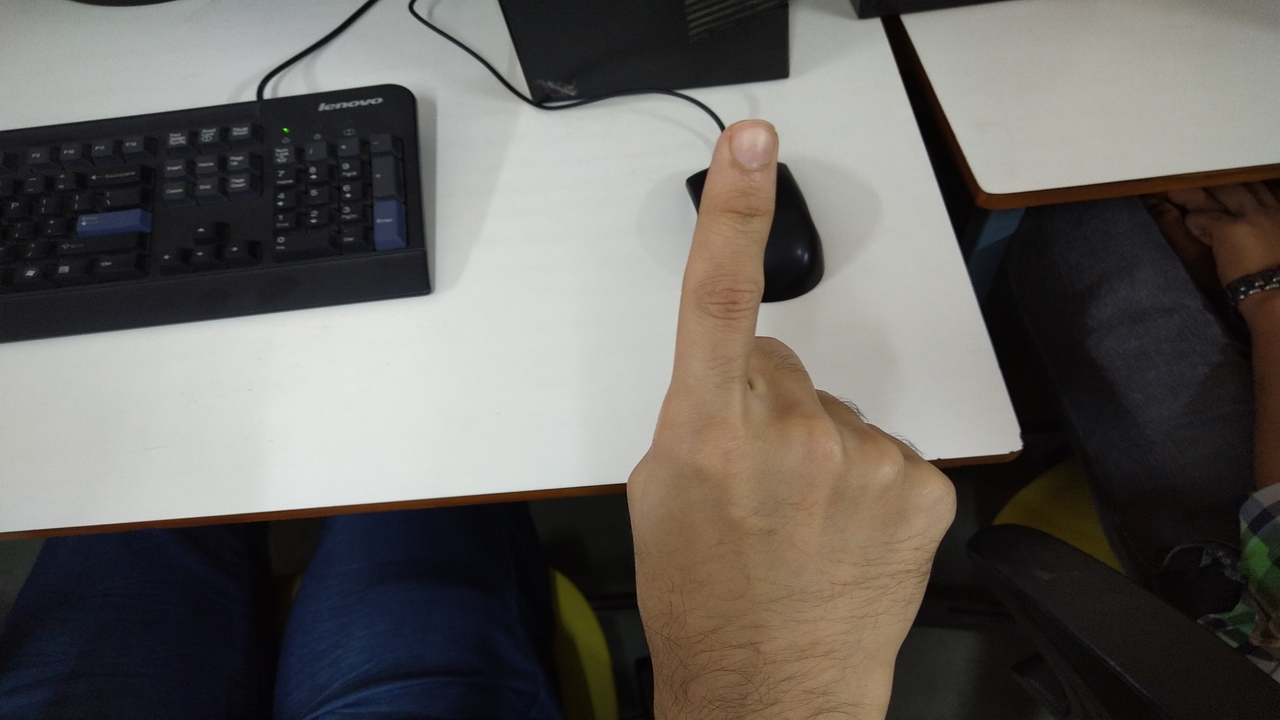fingertip: (714, 112, 786, 182)
